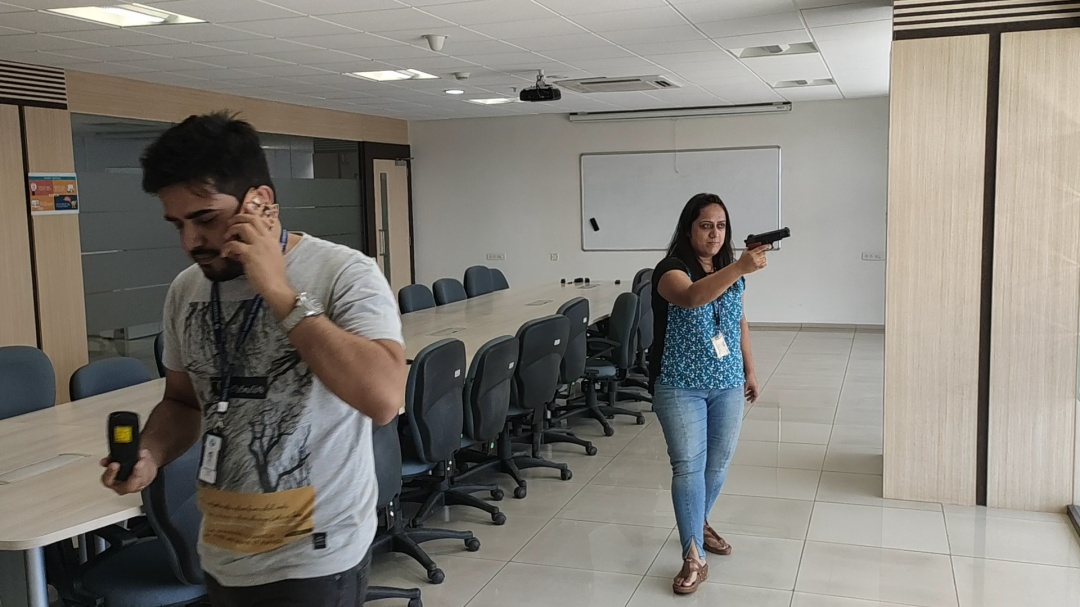gun: (744, 226, 792, 250)
